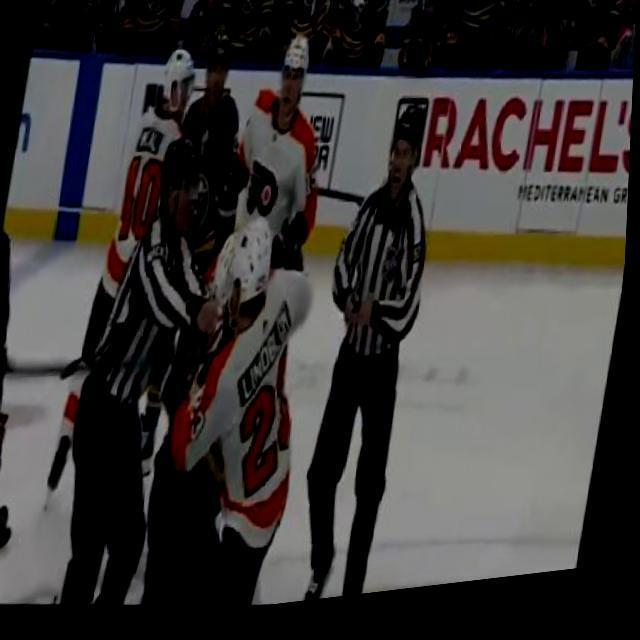fight: (52, 118, 350, 633)
